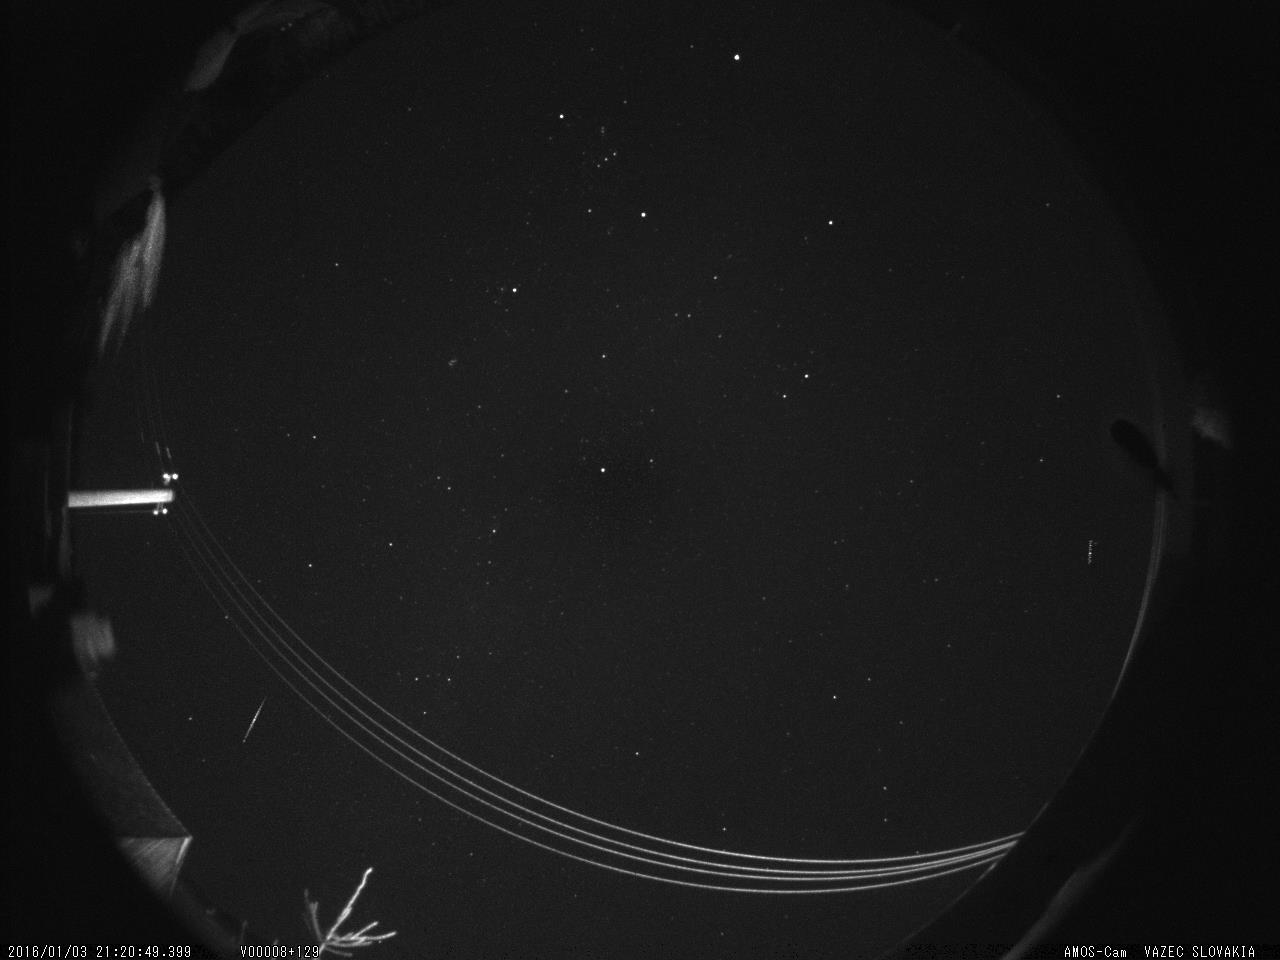meteor: (234, 689, 278, 746)
